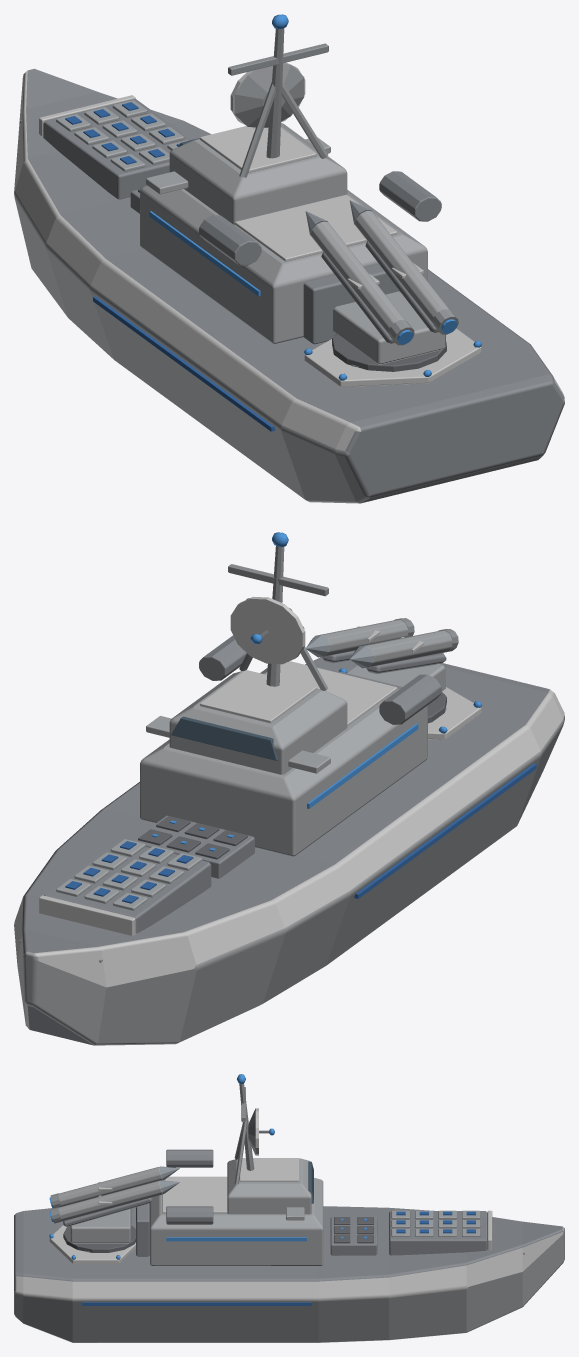
File: lattice_missile_ship.glb
The picture shows the model from 3 angles, top to bottom: view 1: azimuth 30°, elevation 25°; view 2: azimuth 150°, elevation 25°; view 3: azimuth 270°, elevation 25°; orthographic projection. The views are drawn at different scales.
Parts seen in each view (by area): view 1: Body, Turret; view 2: Body, Turret; view 3: Body, Turret.
Part boxes in pixels (box(x1,y1,x2,y2)): Body: box(14, 14, 564, 503); Turret: box(305, 200, 458, 371); Body: box(14, 532, 564, 1045); Turret: box(306, 618, 458, 723); Body: box(14, 1074, 564, 1342); Turret: box(49, 1166, 179, 1252).
Bounding box in the file's own units: 0.8429 × 1.11 × 2.35.
